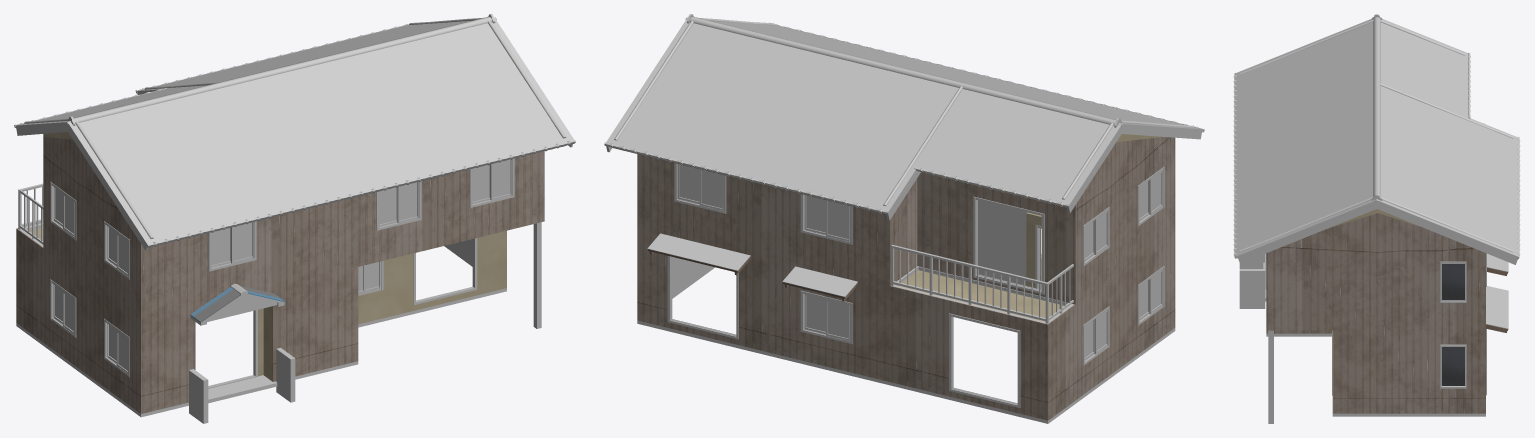
The model's file is JpHouse_21a.fbx.
3 views of the same model, side by side, from view 1: azimuth 30°, elevation 25°; view 2: azimuth 150°, elevation 25°; view 3: azimuth 270°, elevation 25° (orthographic). The views are drawn at different scales.
Parts seen in each view (by area): view 1: JpHouse_21a; view 2: JpHouse_21a; view 3: JpHouse_21a.
Part boxes in pixels (box(x1,y1,x2,y2)): JpHouse_21a: box(14, 14, 575, 423); JpHouse_21a: box(604, 14, 1204, 423); JpHouse_21a: box(1233, 14, 1520, 423).
Bounding box in the file's own units: 13.81 × 8.18 × 9.09.
